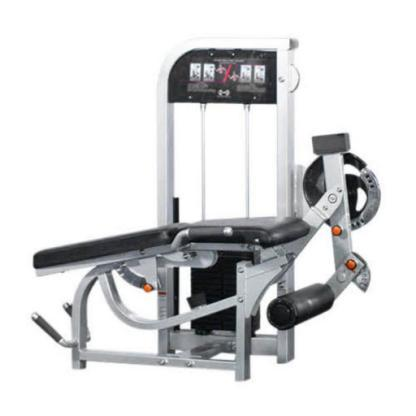reg curl machine: (34, 44, 381, 381)
